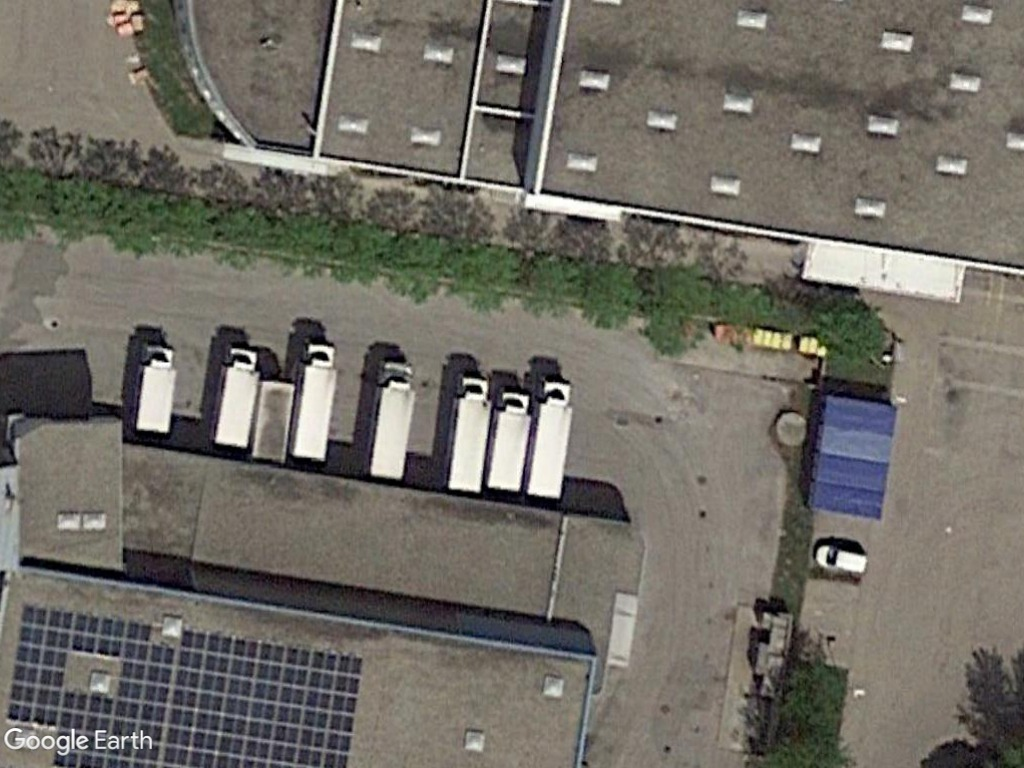car: (810, 541, 873, 577)
truck: (286, 340, 342, 467), (440, 373, 496, 498), (523, 377, 579, 502), (365, 357, 417, 483), (210, 341, 266, 454), (484, 385, 537, 496), (135, 338, 180, 443)
